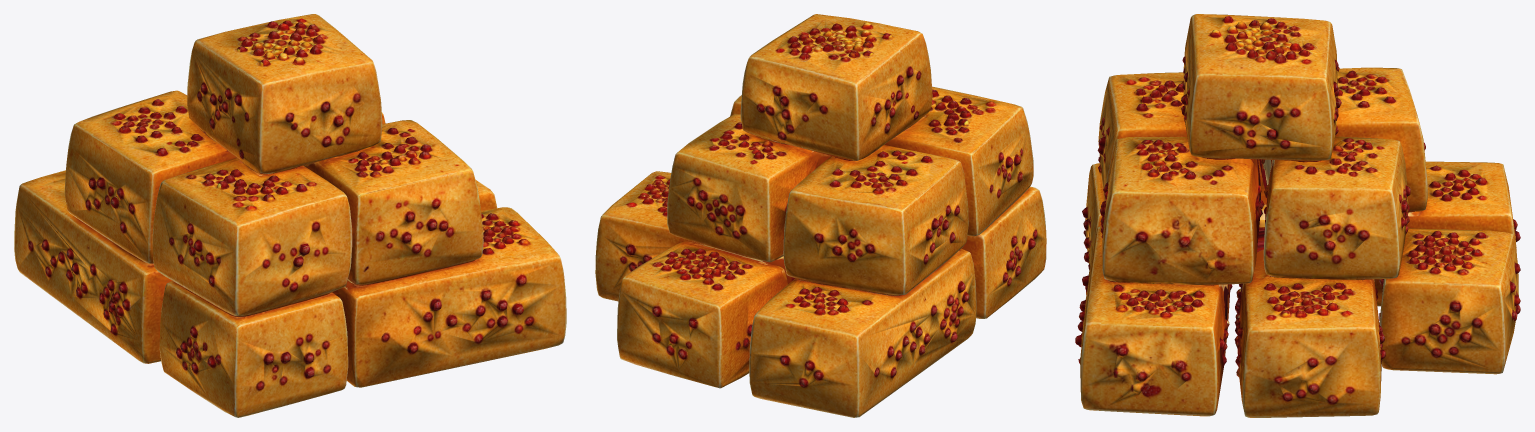
File: beer-tofu.glb
3 views of the same model, side by side, from view 1: azimuth 30°, elevation 25°; view 2: azimuth 150°, elevation 25°; view 3: azimuth 270°, elevation 25° (orthographic). The views are drawn at different scales.
Visible parts, largest first — view 1: mesh; view 2: mesh; view 3: mesh.
Boxes of the visible parts, <box> form: mesh: <box>14,14,566,417</box>; mesh: <box>595,14,1046,417</box>; mesh: <box>1075,14,1520,417</box>.
Size of the model in its own units: 1.86 by 1.45 by 2.
1 material, 1 textured.
